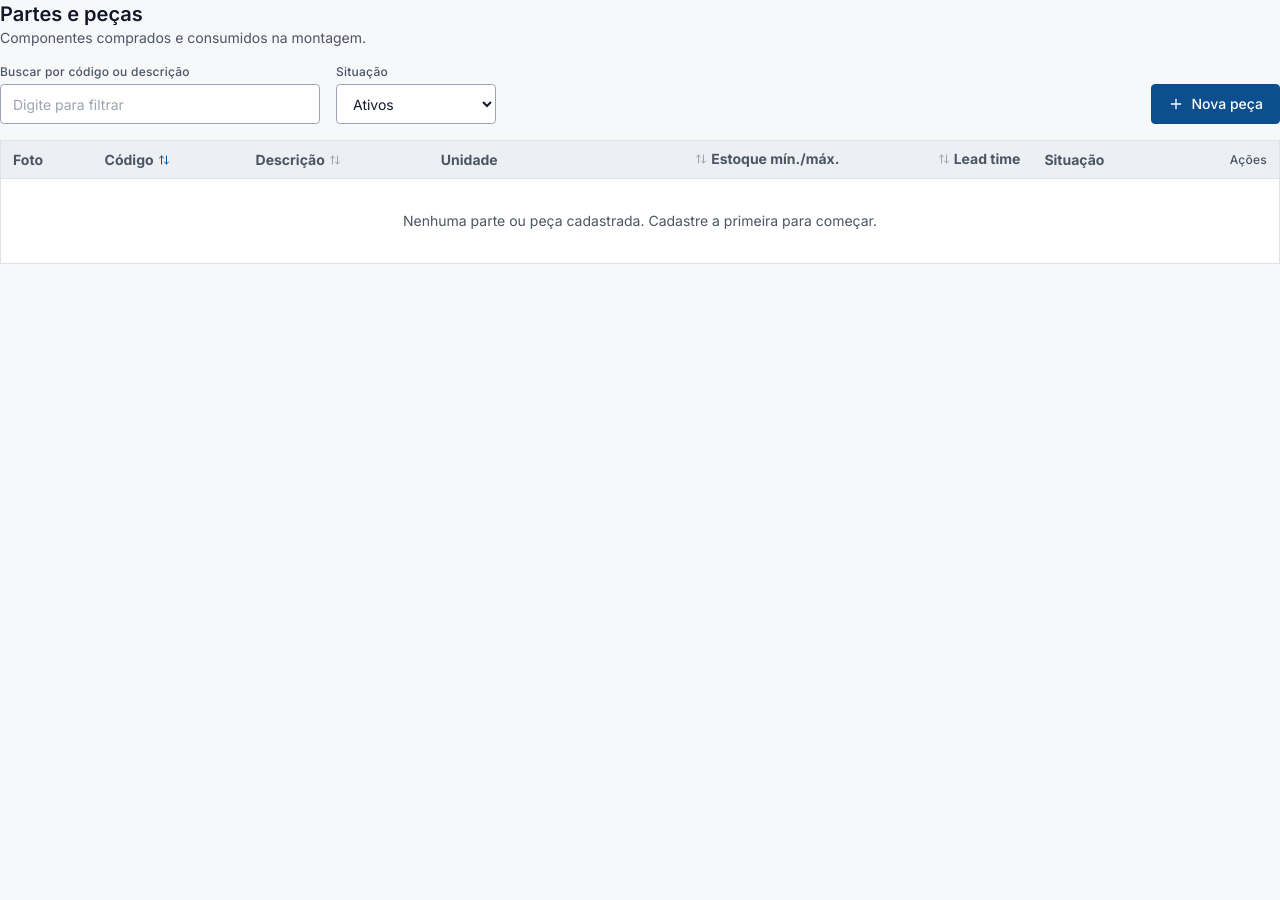
Test case: PartesPecas › controla validade so fica habilitado com lote, e desmarca junto
Expected: the text "Nenhuma parte ou peça cadastrada" is shown, [403,212,877,229]
Click the button "Nova peça" at (1215, 104), box [1150,84,1279,124]
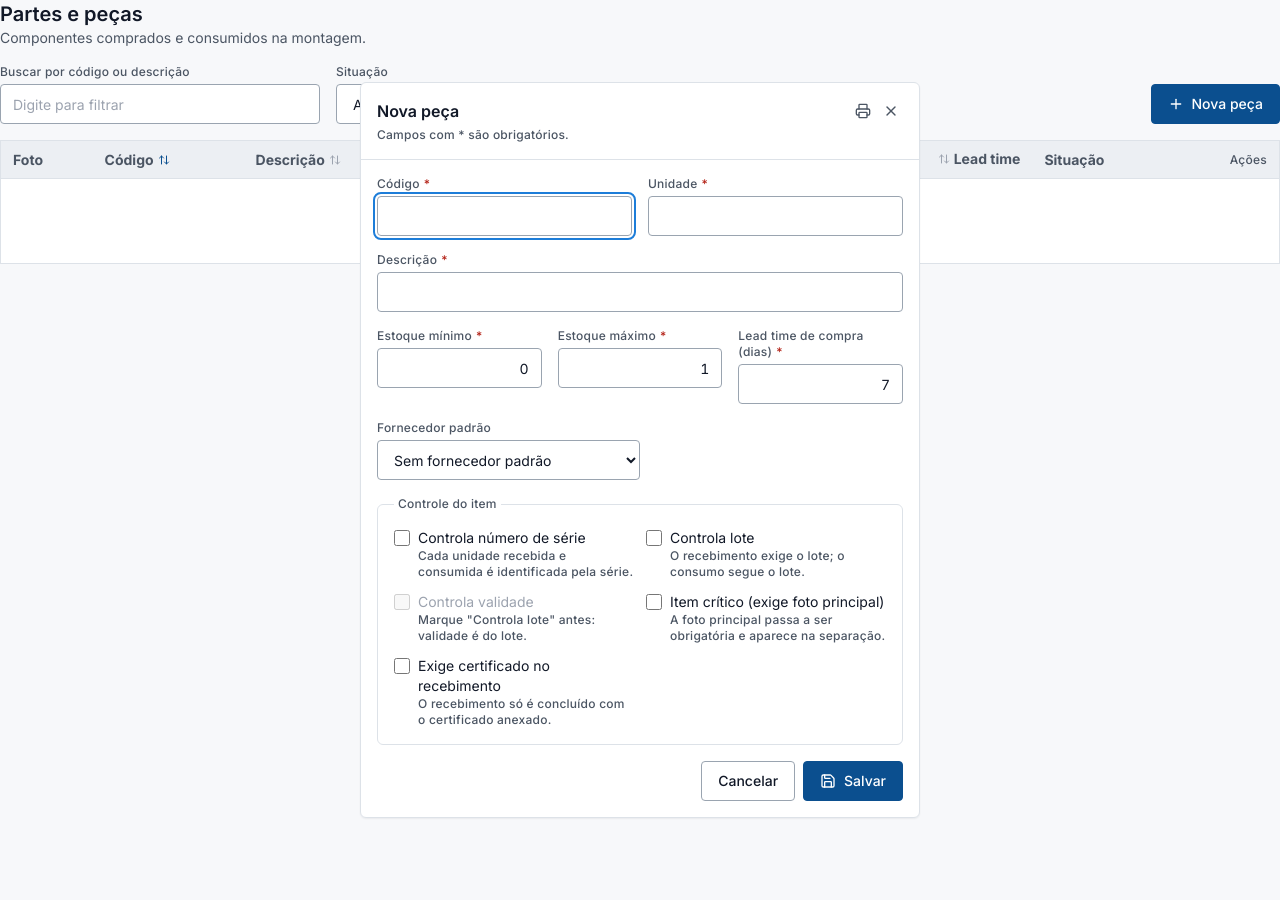
Expected: the field labelled "Validade mínima" is not shown
Expected: the checkbox labelled "Controla validade" is disabled, [394,594,410,610]
Click the checkbox labelled "Controla lote" at (654, 538), box [646,530,662,546]
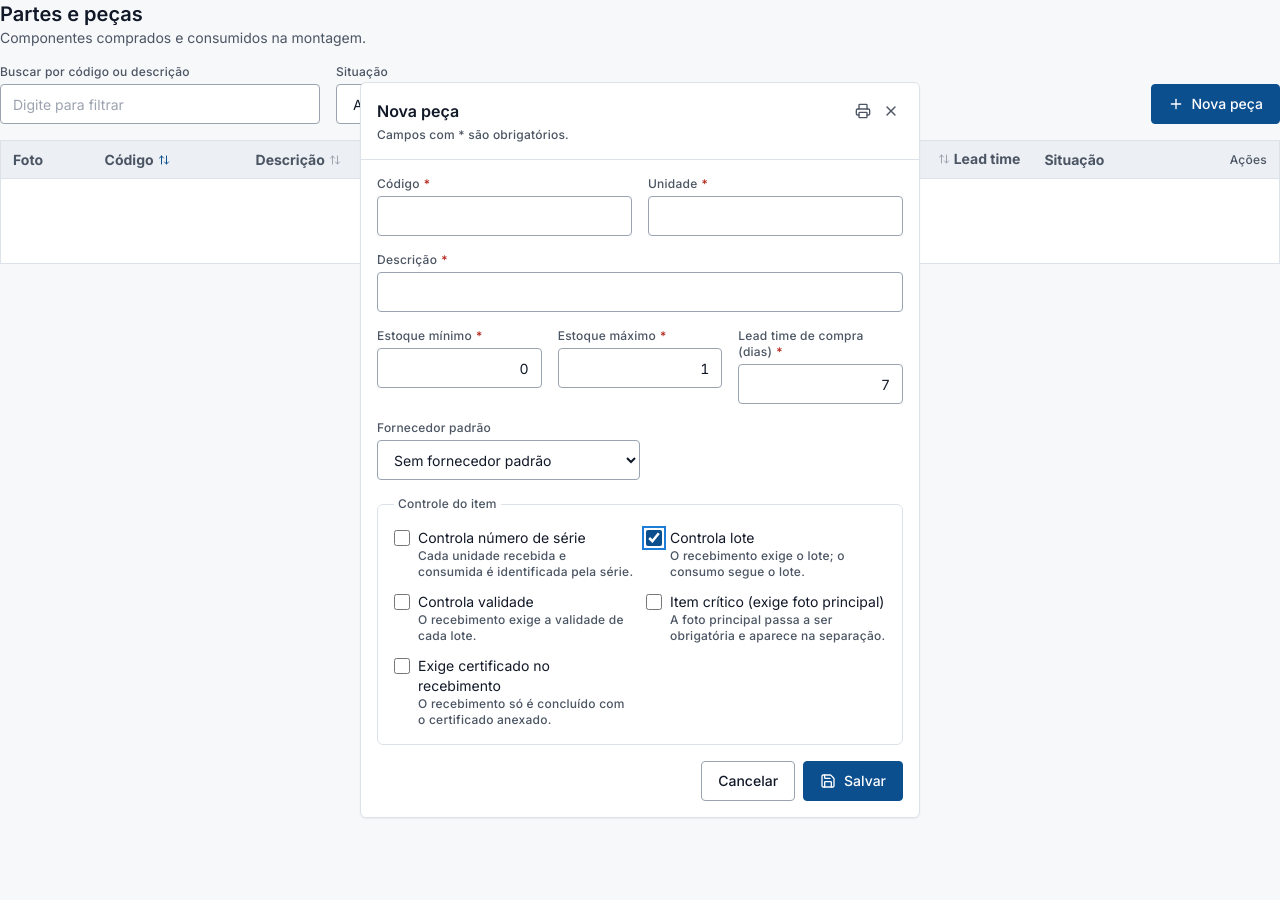
Expected: the checkbox labelled "Controla validade" is enabled
Click the checkbox labelled "Controla validade" at (402, 602), box [394,594,410,610]
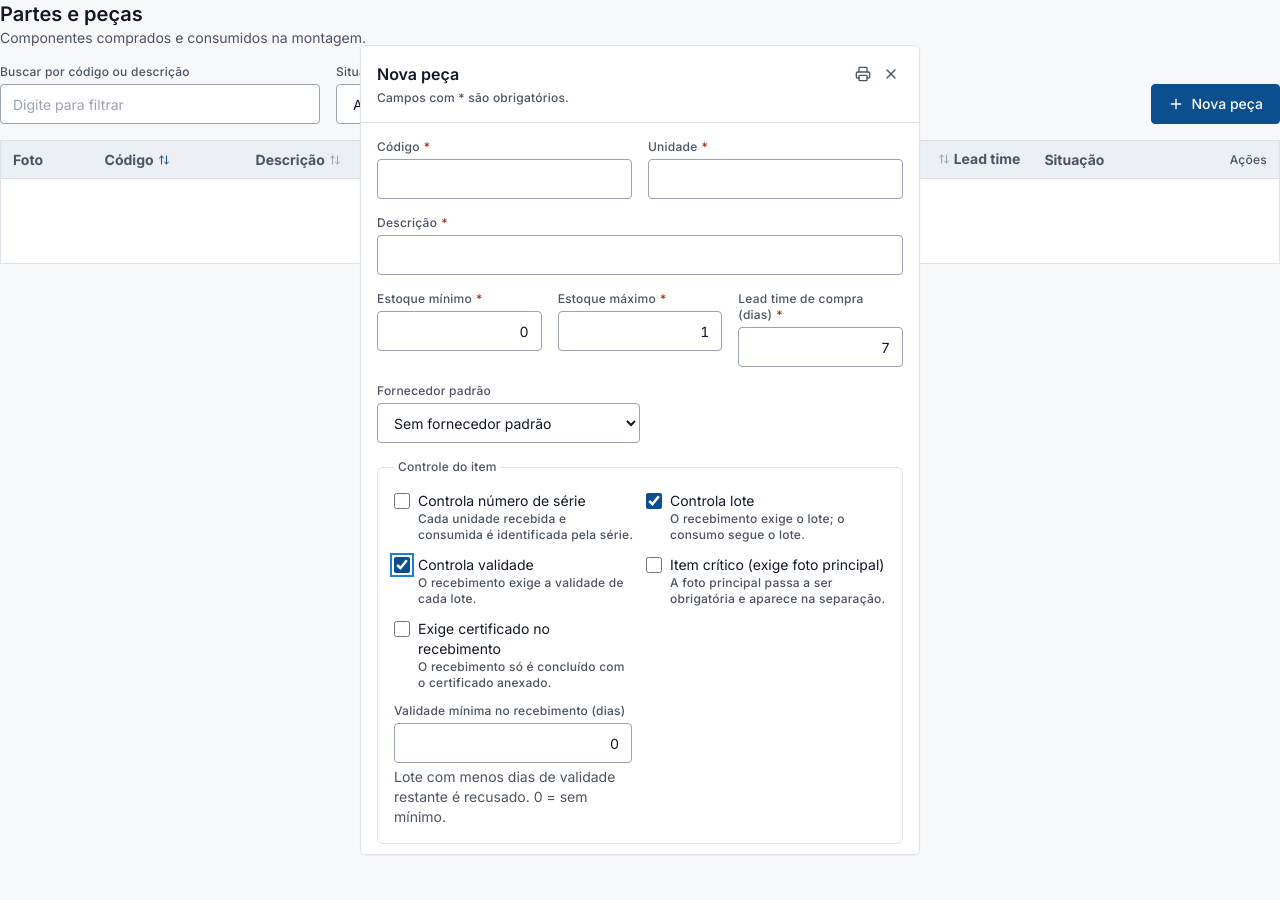
Expected: the field labelled "Validade mínima no recebimento (dias)" is shown, [394,723,632,763]
Click the checkbox labelled "Controla lote" at (654, 501), box [646,493,662,509]
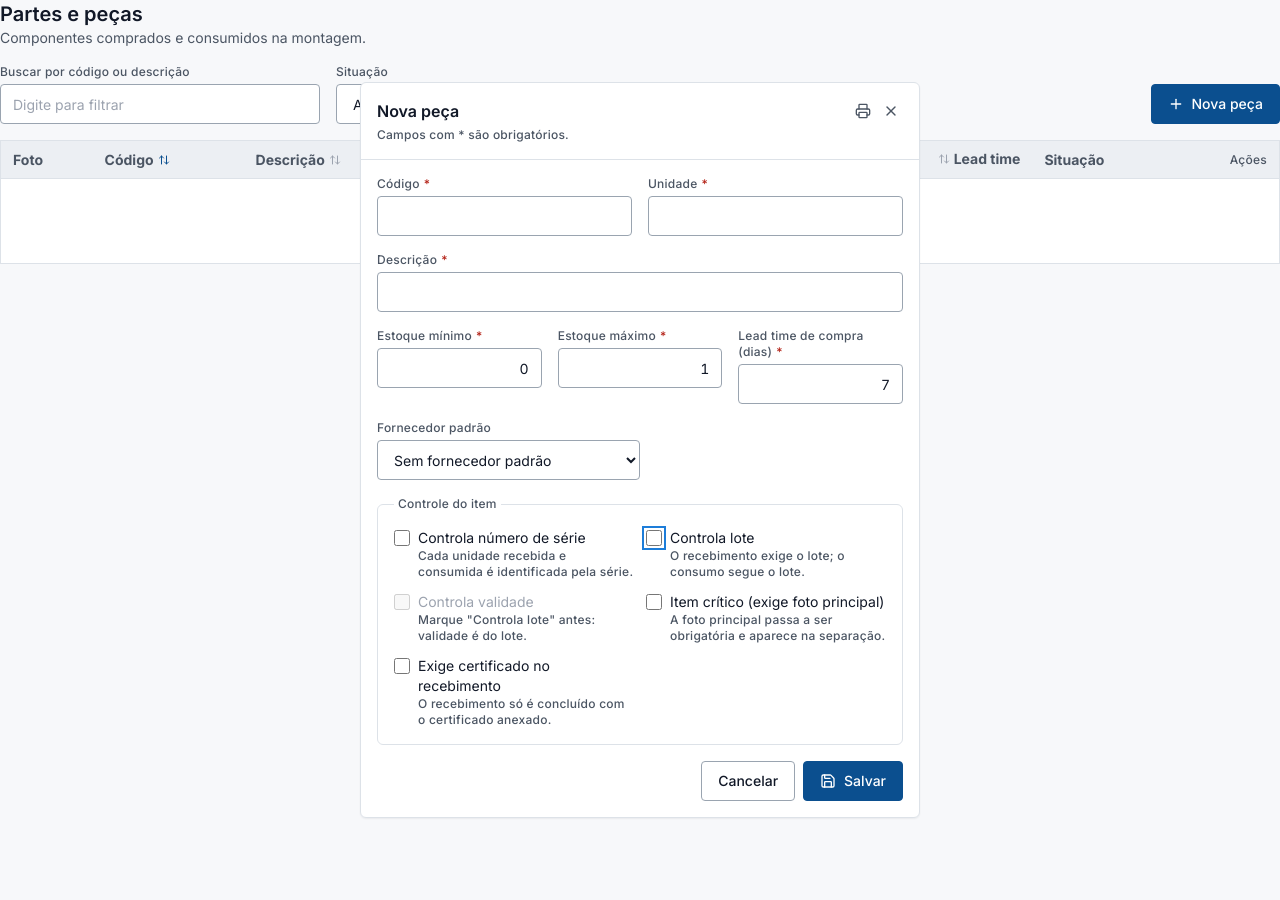
Expected: the checkbox labelled "Controla validade" is not checked, [394,594,410,610]
Expected: the checkbox labelled "Controla validade" is disabled, [394,594,410,610]
